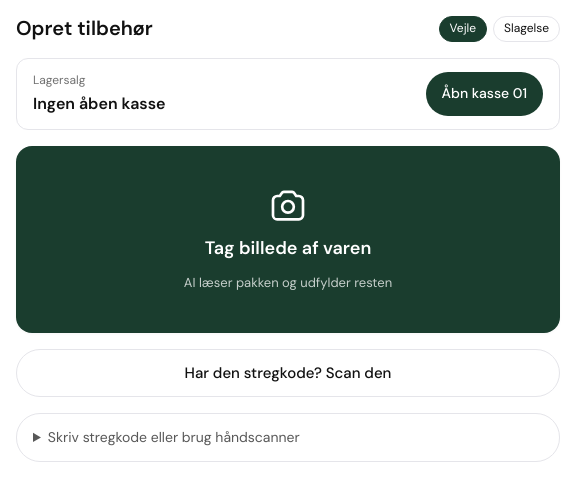
QuickCover: kasser › viser knappen Åbn kasse 01 når ingen er åben
Click the button "Åbn kasse 01". click: (484, 94)
box: [426,72,543,116]
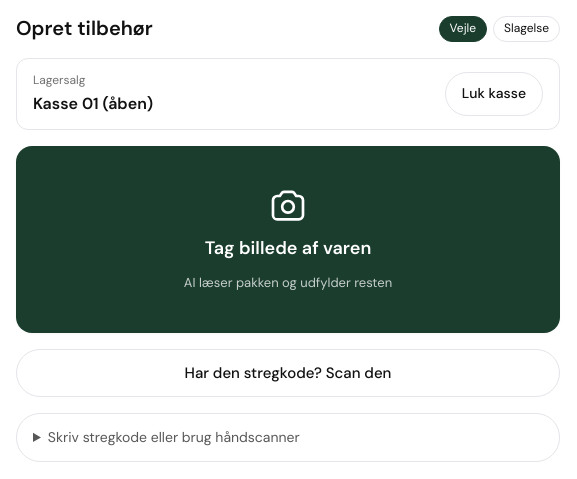
Check: the text "Kasse 01 (åben)" is shown, box [33,91,153,117]
